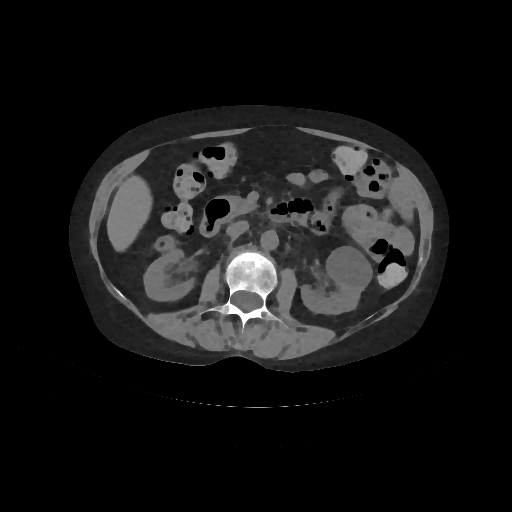Lesion: (323, 239, 374, 298)
